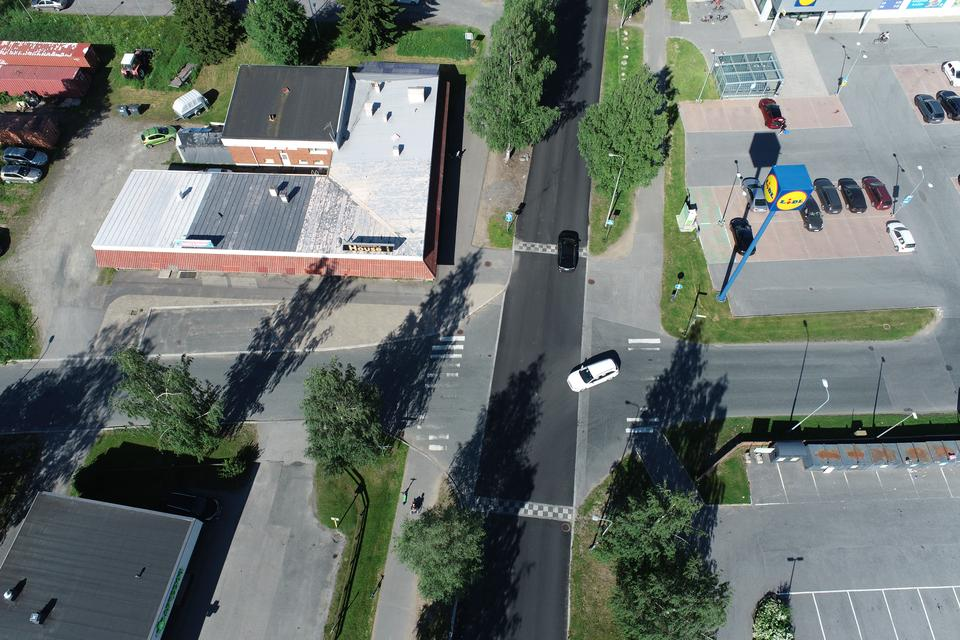intersection: (258, 288, 525, 508), (541, 287, 800, 483)
